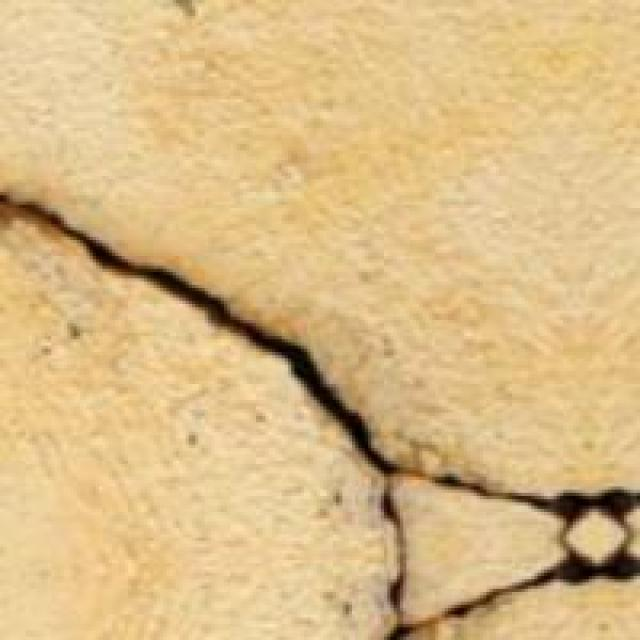crack: (13, 192, 637, 637)
